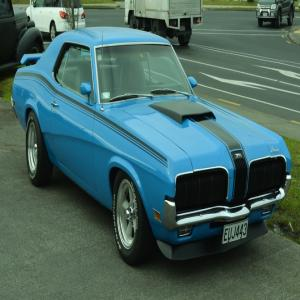Vehicle-registration-plate: (223, 221, 250, 247)
